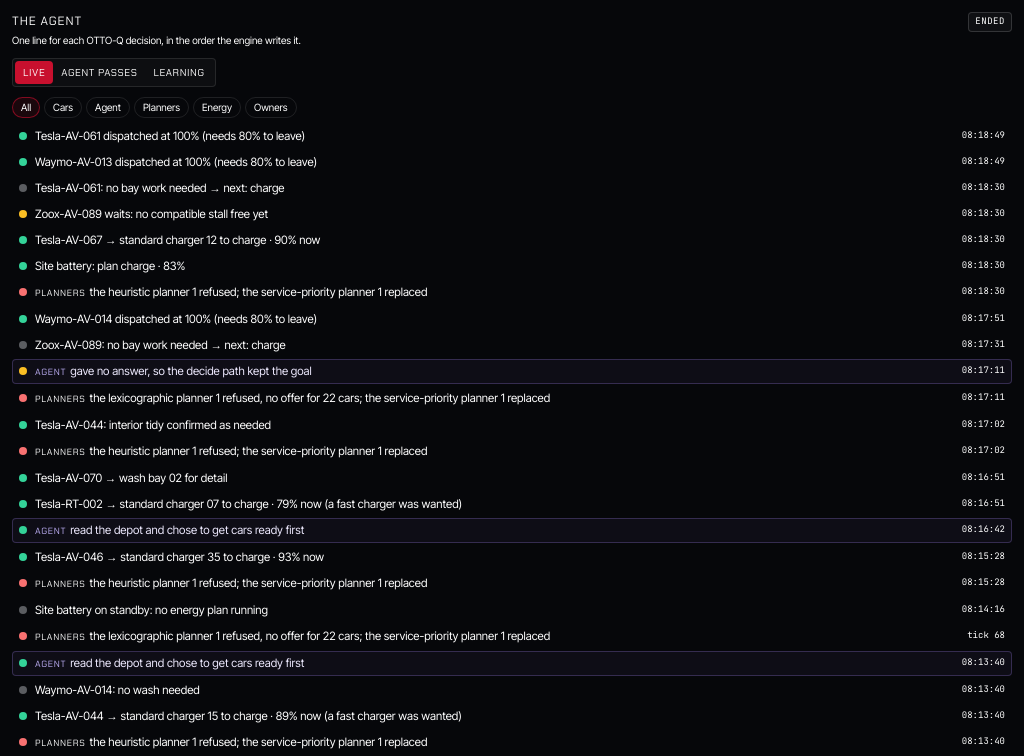
Scenario: Agent tab › writes each pass as sentences, and counts the loop from its records
This screenshot has width=1024, height=756.
Click the tab "Agent passes". click: {"x": 99, "y": 72}
box: [53, 61, 145, 84]
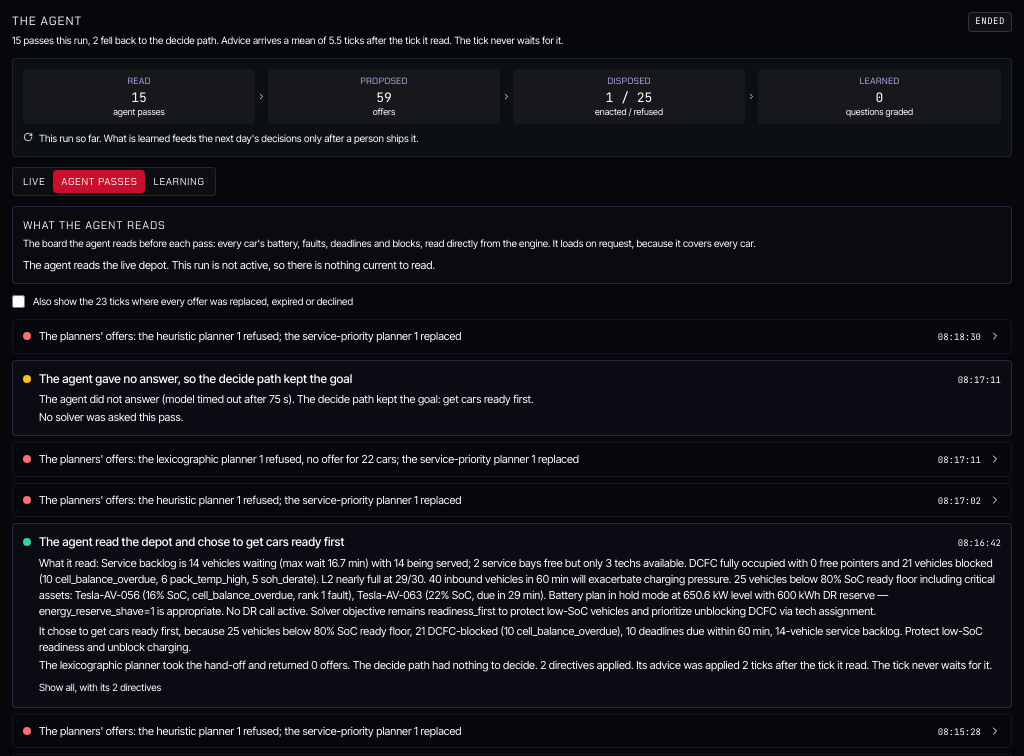
Check: the text "15 passes this run, 2 fell back to the decide path" is shown, box [12, 34, 564, 46]
Check: the text "The agent read the depot and chose to get cars ready first" is shown, box [39, 534, 344, 550]
Check: the text "The agent gave no answer, so the decide path kept the goal" is shown, box [39, 370, 352, 386]
